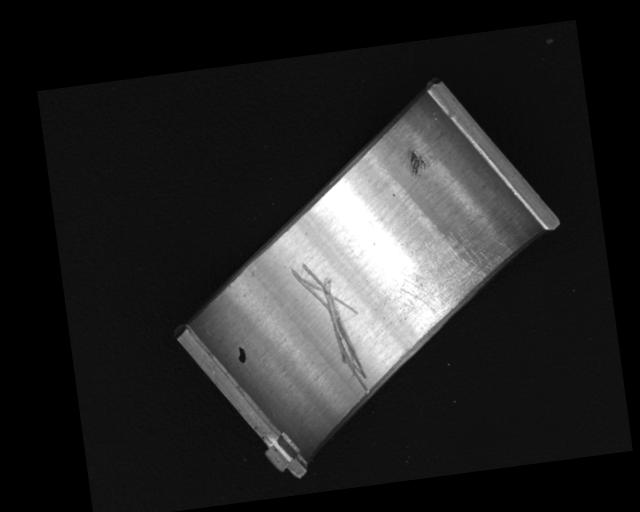blot: (235, 345, 248, 366)
bruise: (406, 148, 427, 178)
nick: (289, 256, 370, 407)
scratch: (384, 222, 518, 326)
